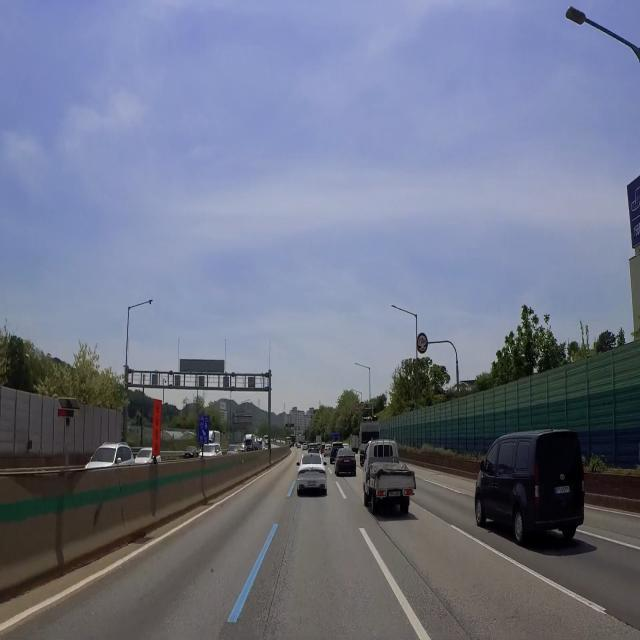car: (554, 484, 572, 499), (342, 455, 353, 470), (389, 488, 402, 499), (305, 481, 320, 489)
